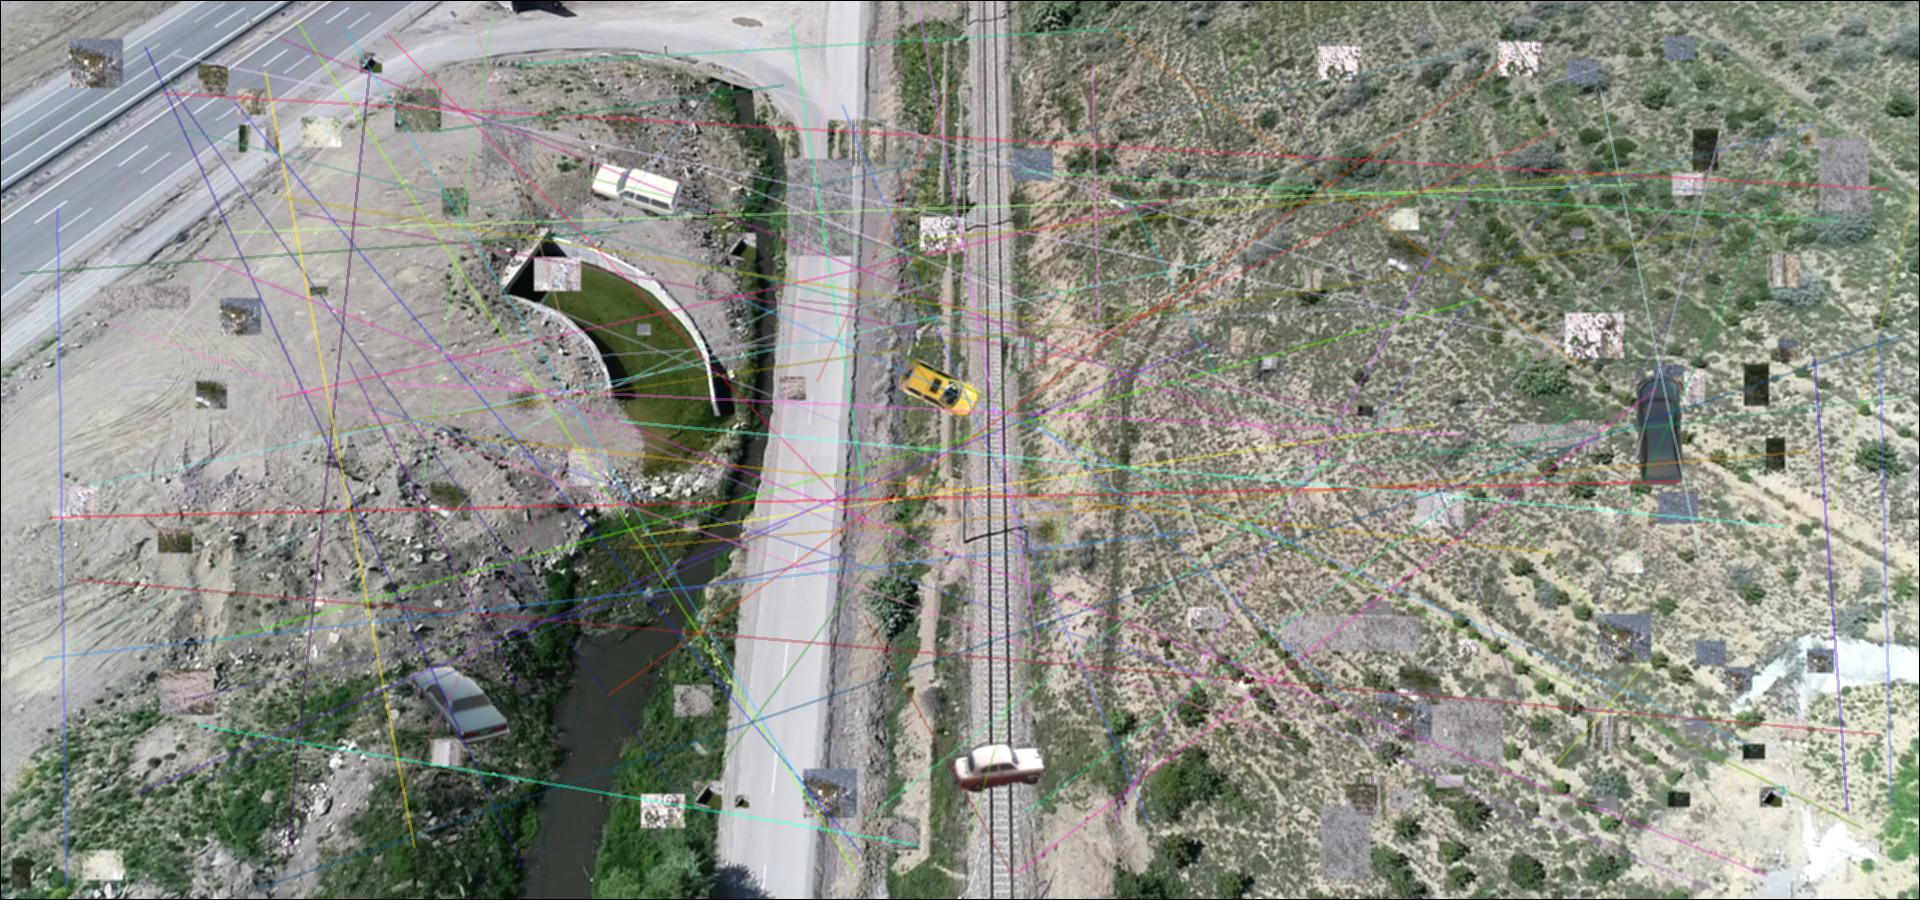arac: (409, 664, 509, 744), (1626, 372, 1687, 485), (584, 160, 682, 223), (951, 742, 1047, 795), (898, 359, 981, 418)
